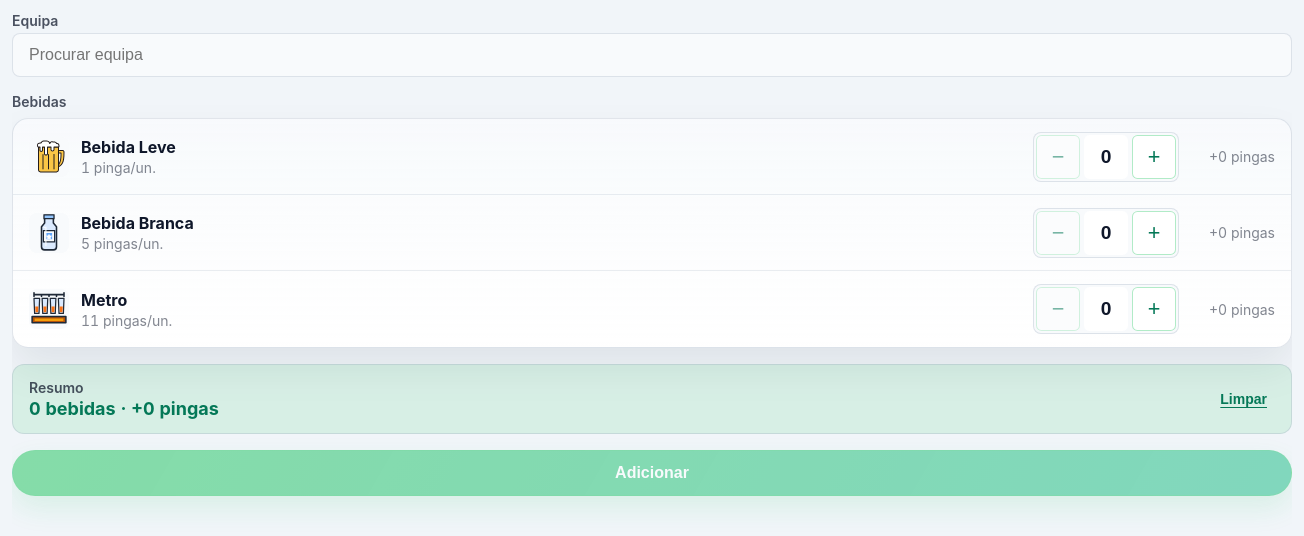
Test: AddPingasPanel drinks workflow › clears quantities without clearing the selected team
In the dropdown named "Procurar equipa": (652,55) x1=12 y1=33 x2=1292 y2=77, type "Alfa"
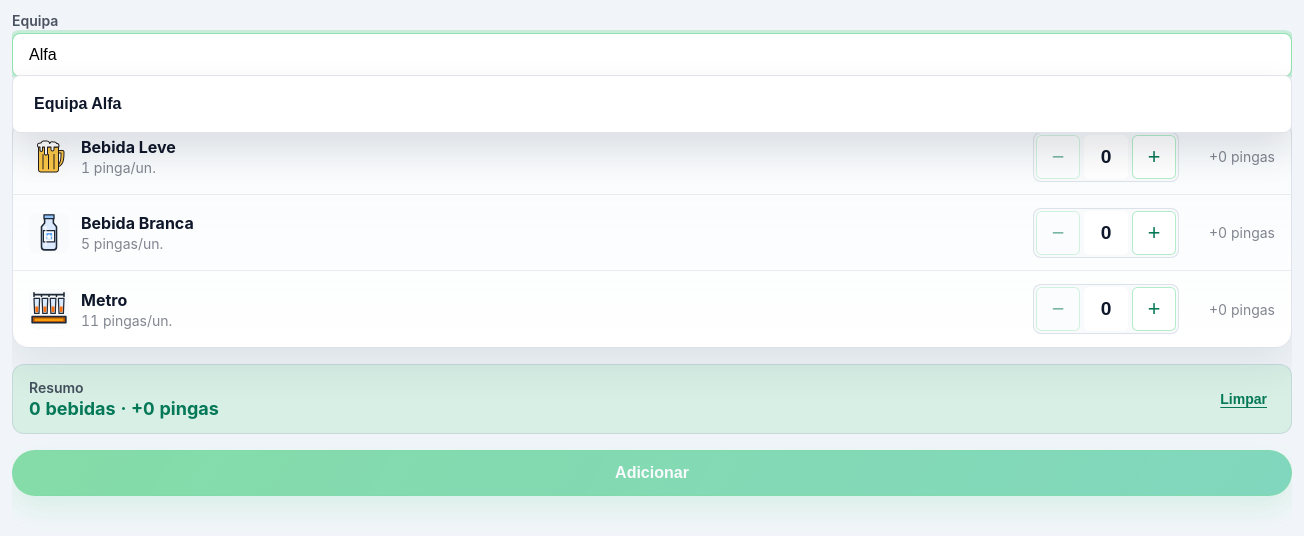
Click the option "Equipa Alfa": (78,104) x1=17 y1=80 x2=1287 y2=128
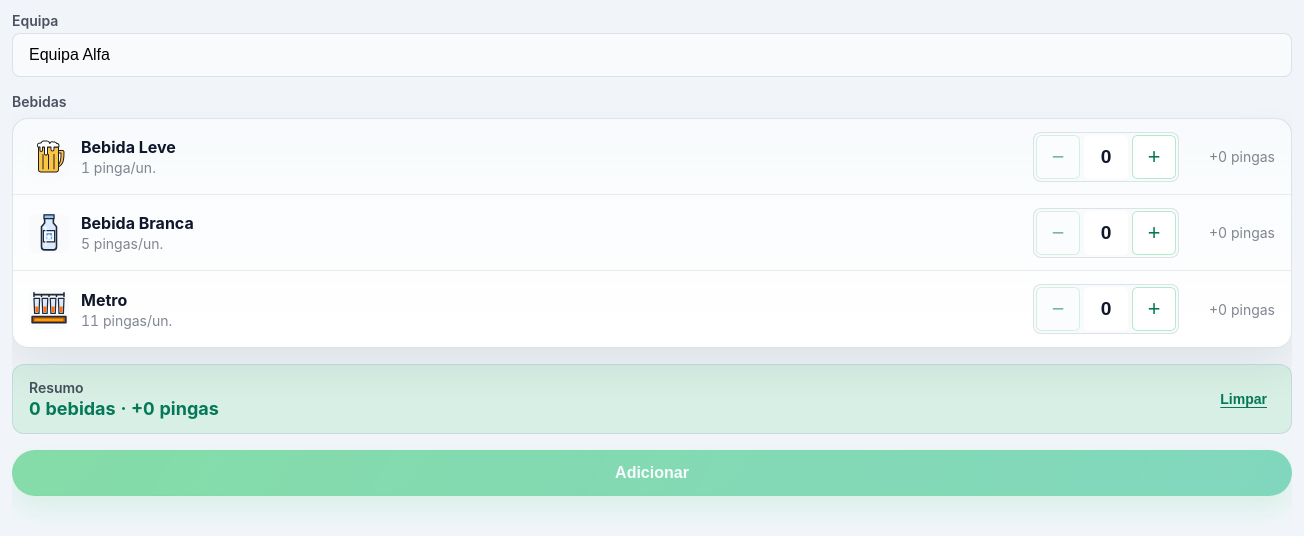
Click the button named "Aumentar quantidade de Bebida Leve": (1154,156) x1=1132 y1=134 x2=1176 y2=178
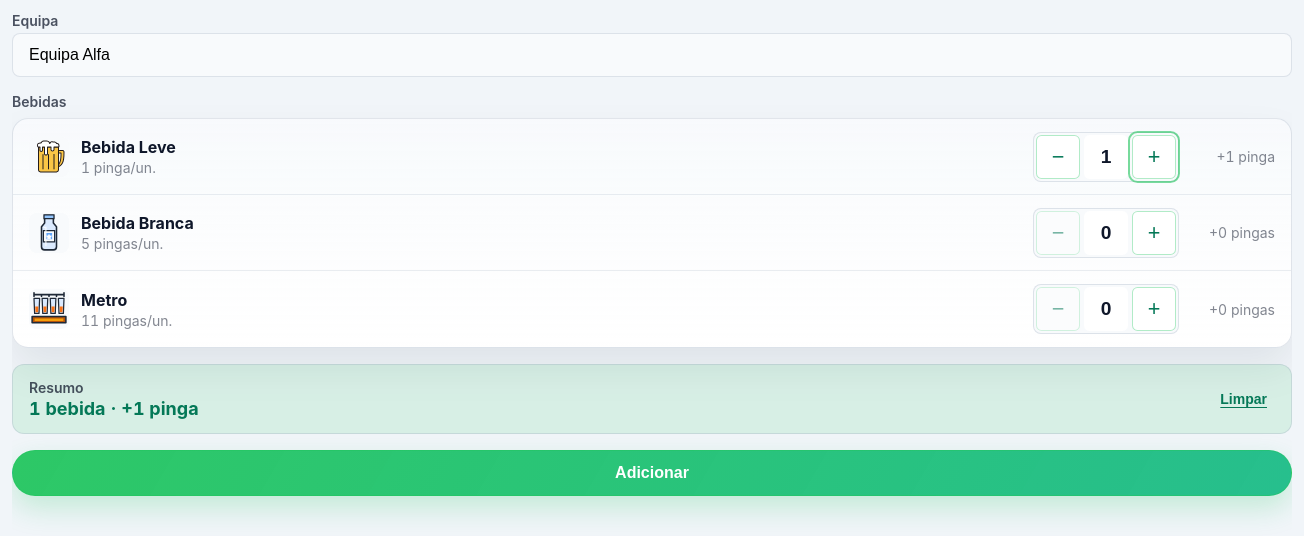
Click the button "Limpar": (1244,399) x1=1212 y1=377 x2=1275 y2=421
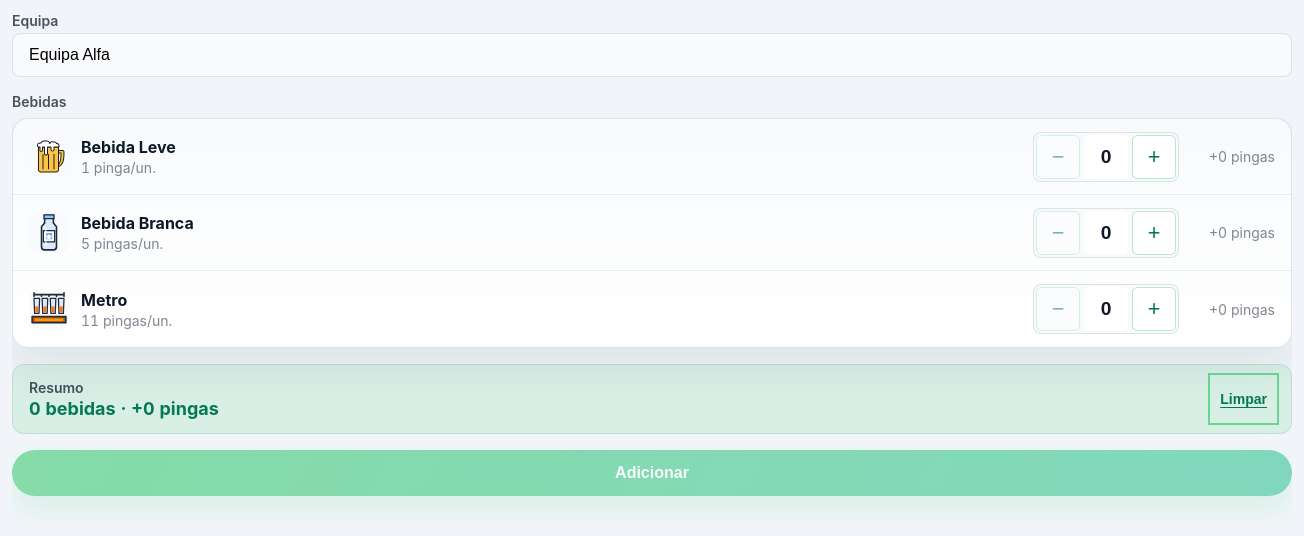
Check: the dropdown named "Procurar equipa" holds "Equipa Alfa", box x1=12 y1=33 x2=1292 y2=77
Check: the number field named "Quantidade de Bebida Leve" in the row of "Bebida Leve" holds "0", box x1=1084 y1=134 x2=1128 y2=178
Check: the button "Adicionar" is disabled, box x1=12 y1=450 x2=1292 y2=496
